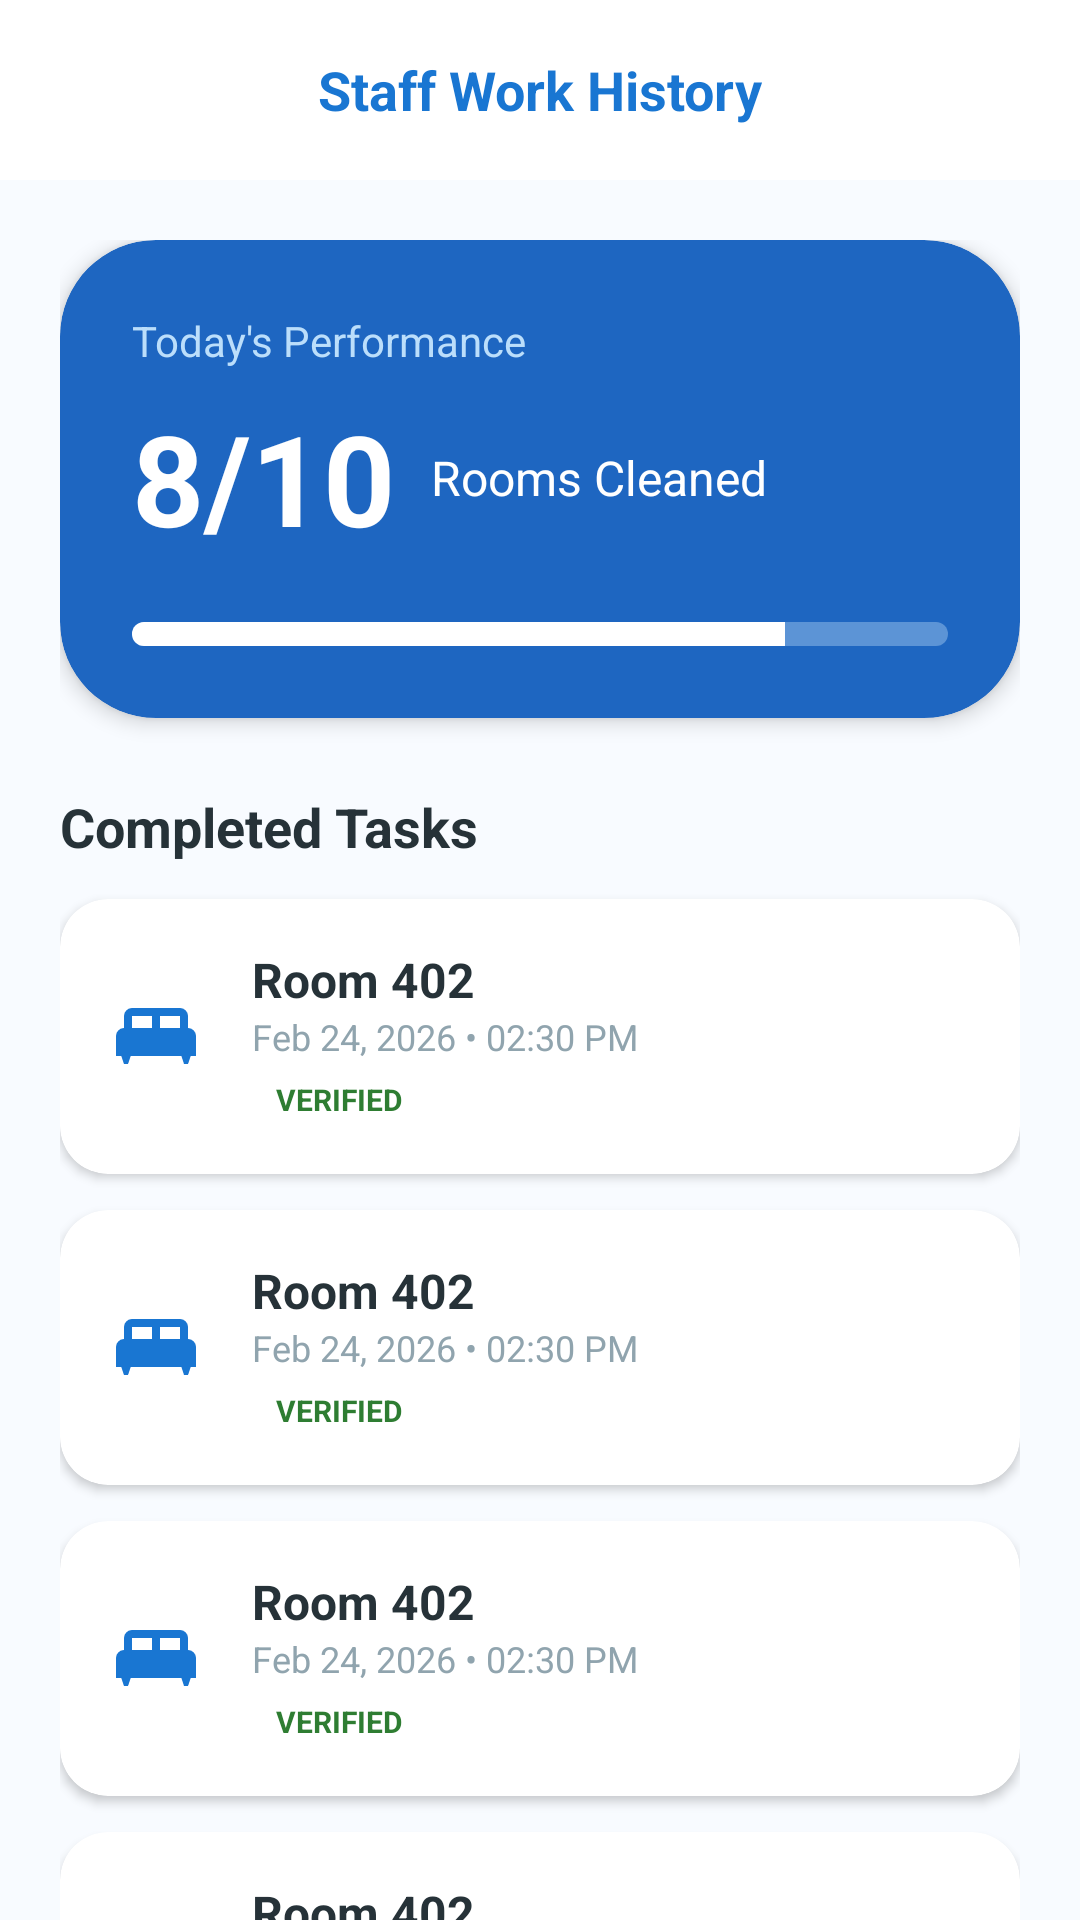

Named icons in this screenshot (1080w x 1920h) and their bounding boxes, (x1, y1, x2, y2):
bed: (116, 1008, 196, 1064), (116, 1319, 196, 1375), (116, 1630, 196, 1686)
